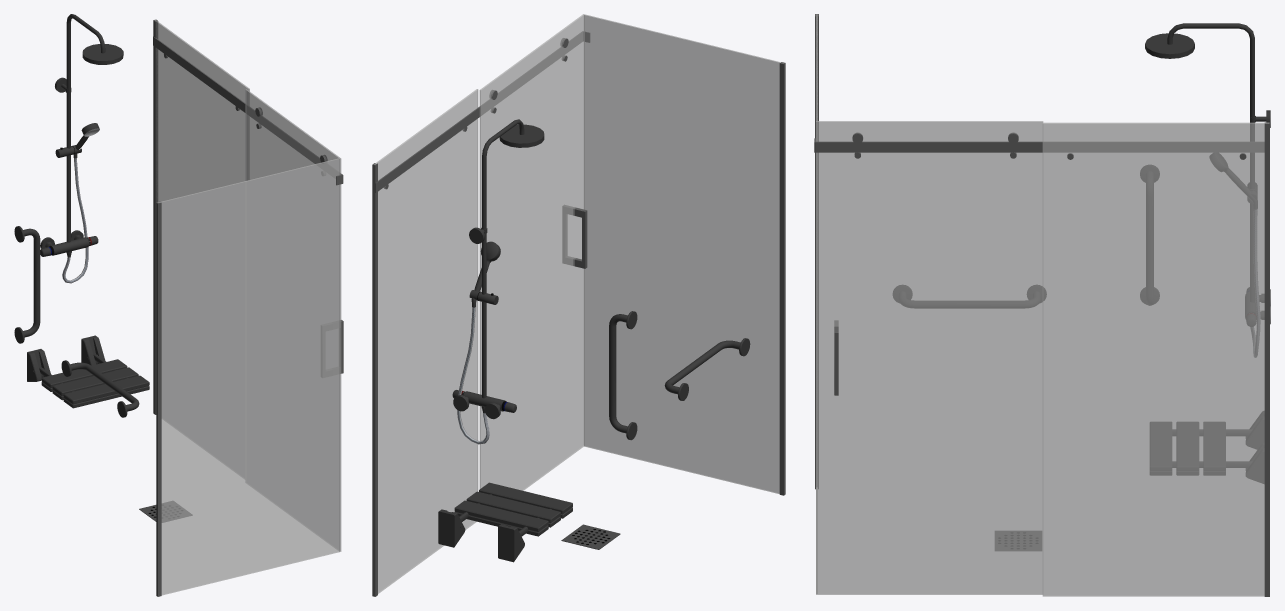
File: shower-cabin-with-seat.obj
3 views of the same model, side by side, from view 1: azimuth 30°, elevation 25°; view 2: azimuth 150°, elevation 25°; view 3: azimuth 270°, elevation 25° (orthographic). The views are drawn at different scales.
Parts seen in each view (by area): view 1: FixedGlass, sweethome3d_opening_on_rail_1_GlassDoor, FixedGlassDoor, sweethome3d_opening_on_hinge_1_Seat, BackFixedPaneAttachment, Cylinder.002, sweethome3d_rail_1, FixedPaneAttachment, SideBar, SeatWallSupports, SideBar.001, Tap (+2 smaller); view 2: FixedGlass, sweethome3d_opening_on_rail_1_GlassDoor, FixedGlassDoor, sweethome3d_opening_on_hinge_1_Seat, BackFixedPaneAttachment, FixedPaneAttachment, sweethome3d_rail_1, Cylinder.002, SeatWallSupports, SideBar, SideBar.001, Drain (+2 smaller); view 3: FixedGlassDoor, sweethome3d_opening_on_rail_1_GlassDoor, sweethome3d_rail_1, sweethome3d_opening_on_hinge_1_Seat, FixedPaneAttachment, Cylinder.002, SideBar.001, SideBar, BackFixedPaneAttachment, Drain, SeatWallSupports, FixedGlass.
Boxes of the visible parts, x1,y1,x2,y2 form: FixedGlass: (158,158,339,595); sweethome3d_opening_on_rail_1_GlassDoor: (245,89,343,551); FixedGlassDoor: (155,20,249,478); sweethome3d_opening_on_hinge_1_Seat: (41,359,149,408); BackFixedPaneAttachment: (156,201,161,596); Cylinder.002: (66,14,123,242); sweethome3d_rail_1: (153,36,343,185); FixedPaneAttachment: (153,19,158,414); SideBar: (14,226,40,343); SeatWallSupports: (27,335,105,381); SideBar.001: (61,360,139,417); Tap: (40,236,98,257); FixedGlass: (584,14,783,493); sweethome3d_opening_on_rail_1_GlassDoor: (479,14,587,490); FixedGlassDoor: (374,89,478,593); sweethome3d_opening_on_hinge_1_Seat: (454,482,572,536); BackFixedPaneAttachment: (779,62,785,495); FixedPaneAttachment: (372,163,377,596); sweethome3d_rail_1: (375,31,589,192); Cylinder.002: (482,119,544,398); SeatWallSupports: (438,509,524,562); SideBar: (609,311,637,440); SideBar.001: (664,338,750,400); Drain: (561,524,620,549); FixedGlassDoor: (1042,122,1268,596); sweethome3d_opening_on_rail_1_GlassDoor: (816,121,1043,594); sweethome3d_rail_1: (814,138,1264,152); sweethome3d_opening_on_hinge_1_Seat: (1150,422,1225,475); FixedPaneAttachment: (1264,122,1269,596); Cylinder.002: (1145,23,1254,302); SideBar.001: (893,285,1046,308); SideBar: (1140,165,1159,305); BackFixedPaneAttachment: (815,14,818,489); Drain: (995,531,1041,550); SeatWallSupports: (1246,411,1264,483); FixedGlass: (816,14,817,593).
Bounding box in the file's own units: 101 × 213 × 170.
